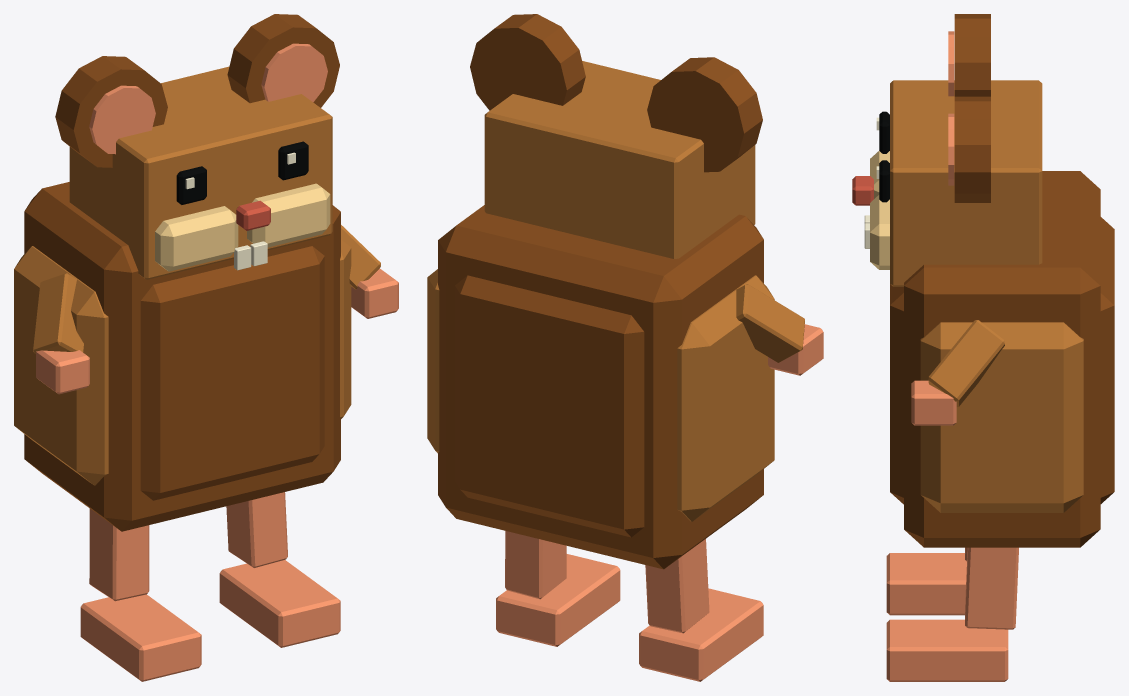
File: PipiPotato_Mini.glb
3 views of the same model, side by side, from view 1: azimuth 30°, elevation 25°; view 2: azimuth 150°, elevation 25°; view 3: azimuth 270°, elevation 25° (orthographic). The views are drawn at different scales.
Parts seen in each view (by area): view 1: PipiPotato_Mini; view 2: PipiPotato_Mini; view 3: PipiPotato_Mini.
Boxes of the visible parts, x1=… form: PipiPotato_Mini: x1=14, y1=14, x2=398, y2=681; PipiPotato_Mini: x1=427, y1=14, x2=823, y2=681; PipiPotato_Mini: x1=852, y1=14, x2=1114, y2=681.
Bounding box in the file's own units: 1.24 × 2 × 0.8261.
Materials: 1 (1 with a texture image).
